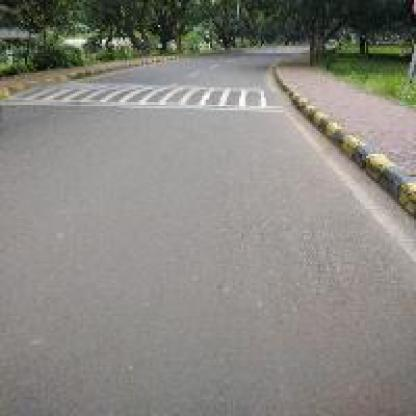Speed Bump: (0, 73, 285, 116)
